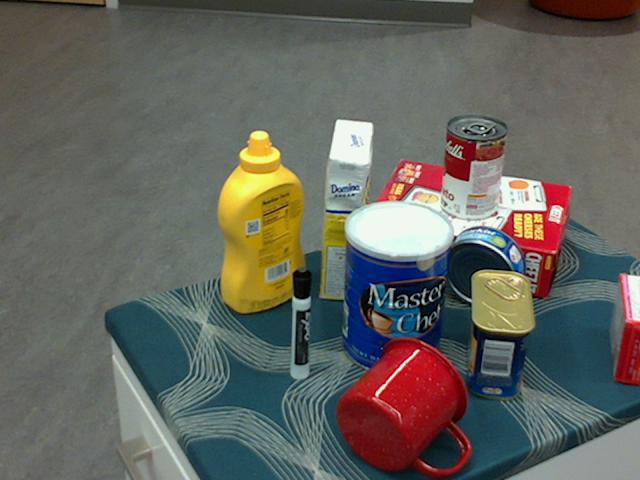cracker_box: (364, 162, 568, 295)
gelatin_box: (608, 274, 639, 386)
large_marker: (288, 266, 310, 381)
master_chef_can: (342, 200, 455, 376)
mug: (336, 337, 469, 477)
mustard_bottle: (216, 130, 305, 313)
potted_meat_can: (465, 270, 537, 400)
sugar_box: (319, 119, 373, 303)
tomato_soup_can: (441, 116, 508, 221)
tuna_fish_can: (443, 225, 526, 307)
